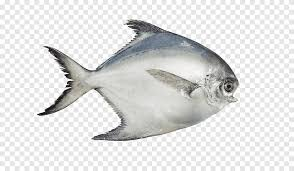Ikan Bawal: (45, 20, 238, 140)
